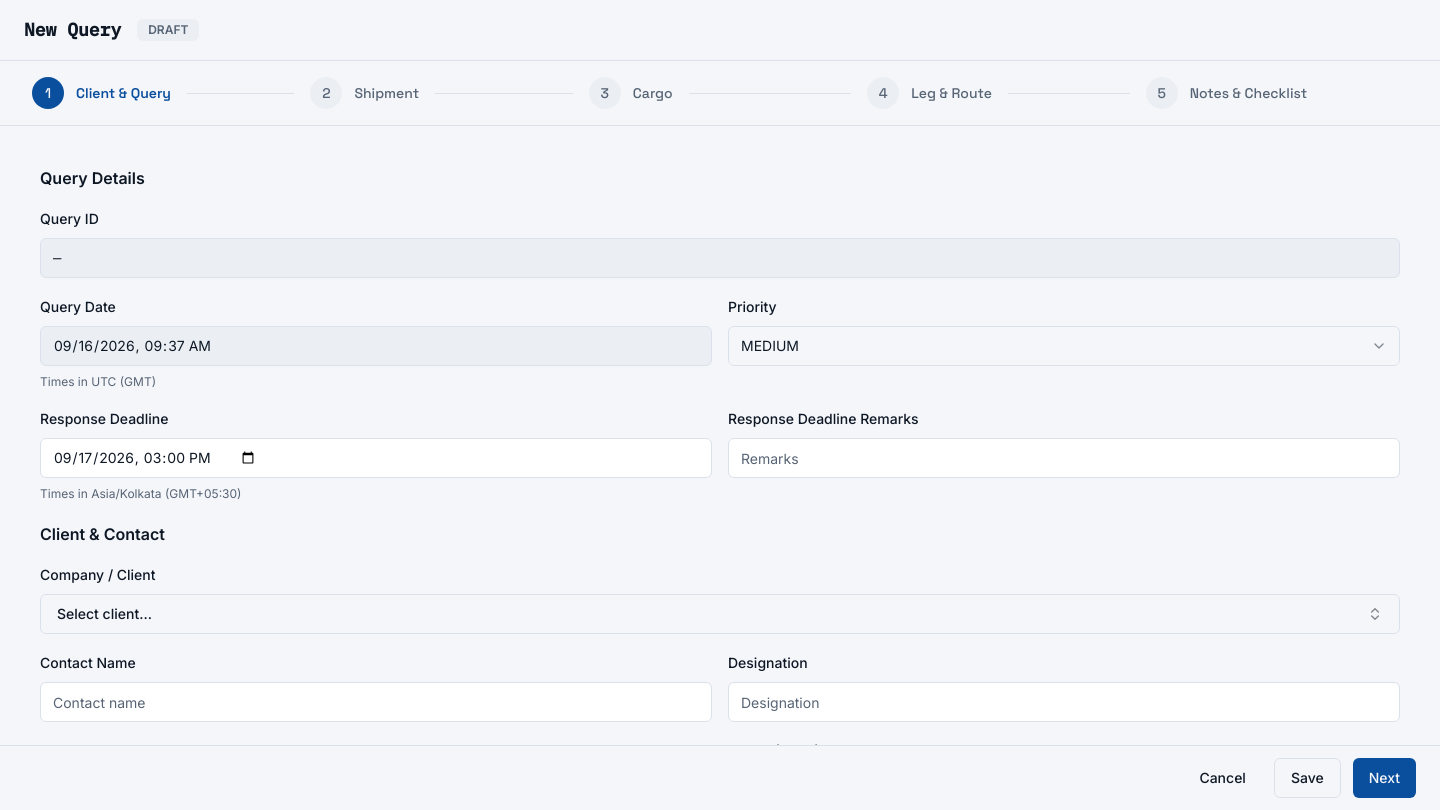
Test: QueryWizardPage › first Next on a new query advances to Shipment in a single click (S3.4)
Expected: the heading "Query Details" is shown, [40,168,145,188]
Click the button "Next" at (1384, 778), box [1353,758,1416,798]
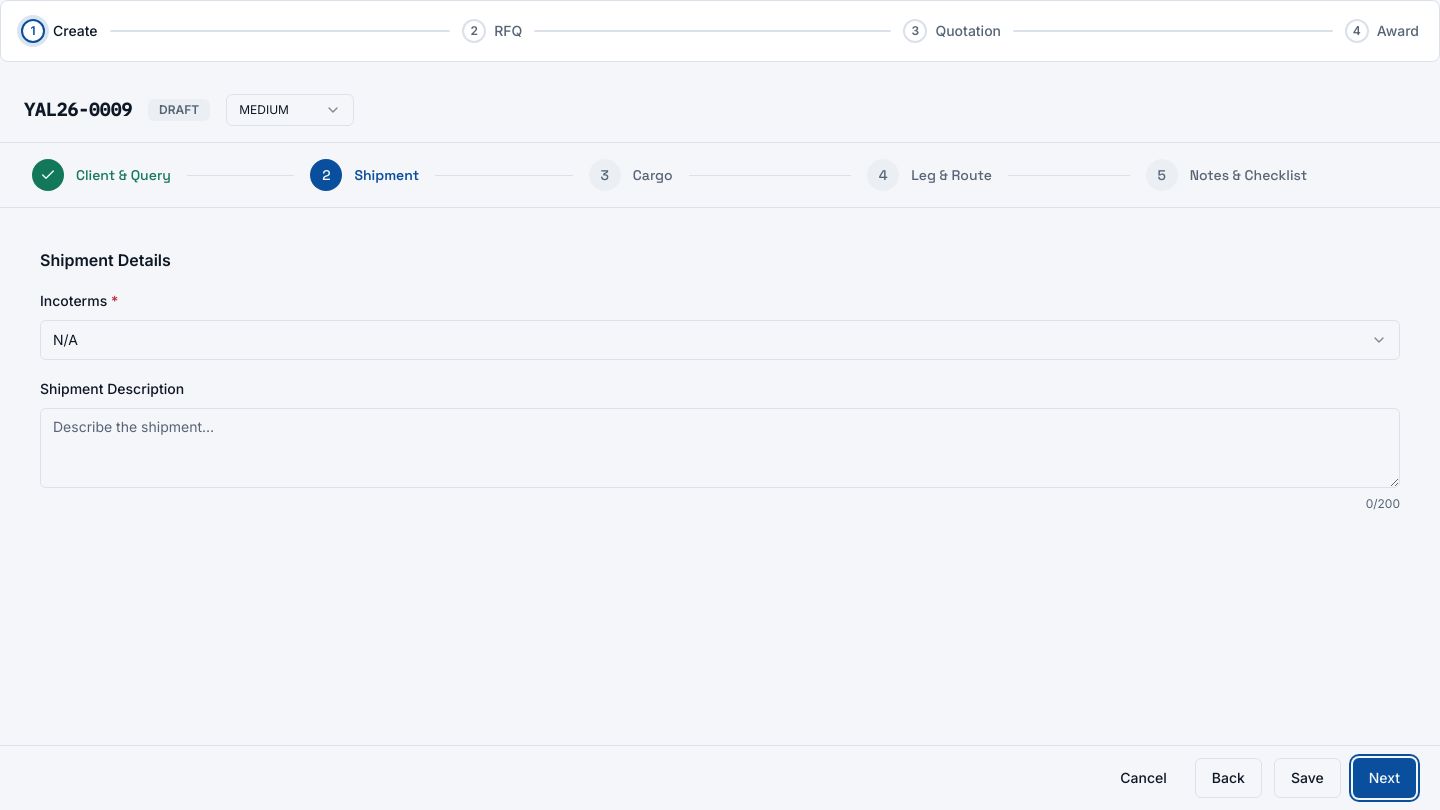
Now the heading "Shipment Details" is shown, box [40,250,171,270]
Now the heading "Query Details" is gone
